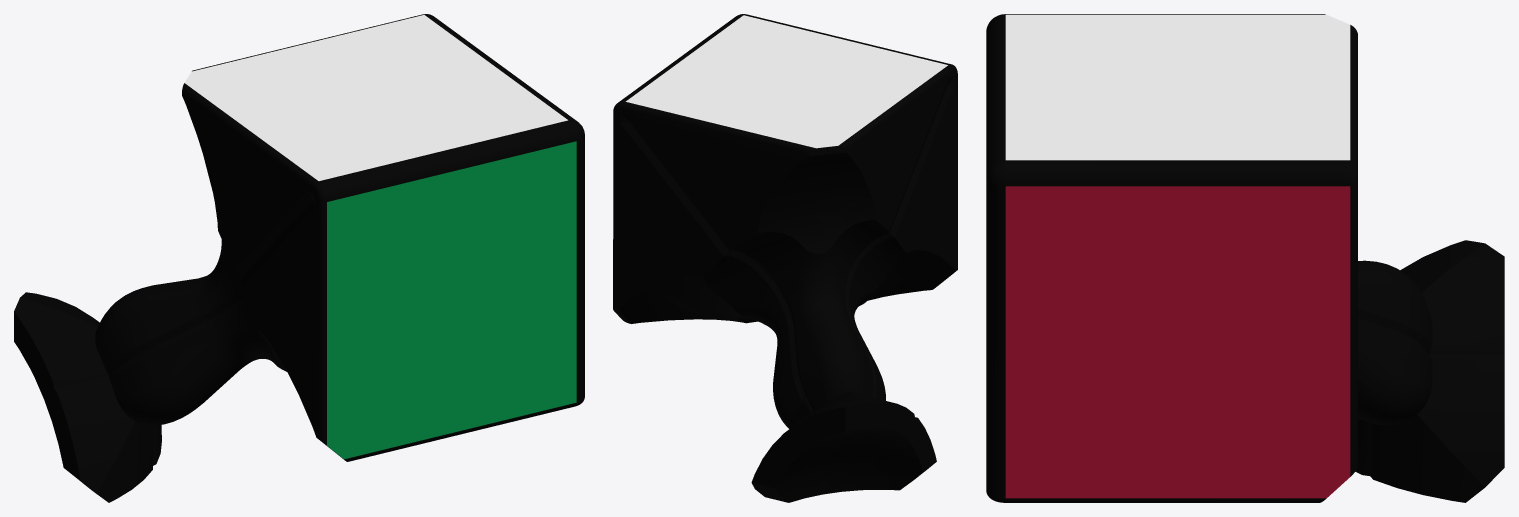
The picture shows the model from 3 angles, left to right: view 1: azimuth 30°, elevation 25°; view 2: azimuth 150°, elevation 25°; view 3: azimuth 270°, elevation 25°; orthographic projection. The views are drawn at different scales.
Parts seen in each view (by area): view 1: Corner_Peice.002_Corner_Peice.001; view 2: Corner_Peice.002_Corner_Peice.001; view 3: Corner_Peice.002_Corner_Peice.001.
Part boxes in pixels (x1,y1,x2,y2): Corner_Peice.002_Corner_Peice.001: [14, 14, 584, 502]; Corner_Peice.002_Corner_Peice.001: [613, 14, 957, 502]; Corner_Peice.002_Corner_Peice.001: [986, 14, 1504, 502].
Size of the model in its own units: 2.65 by 2.65 by 2.65.
